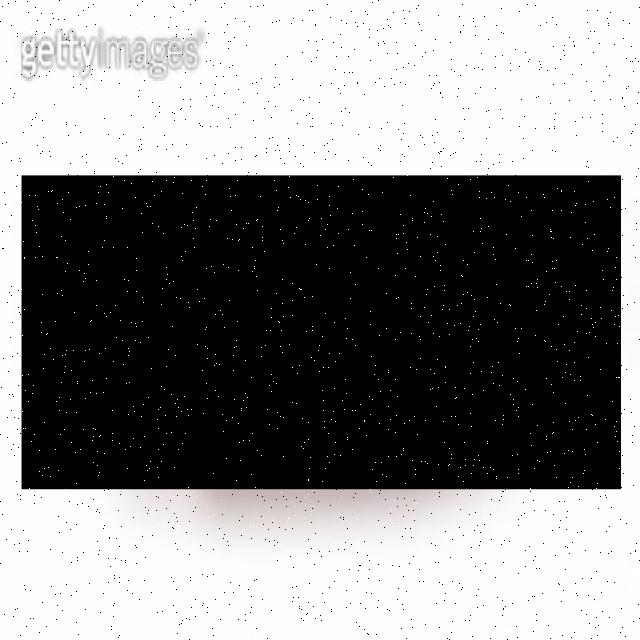Sweet_Potato: (22, 175, 620, 490)
